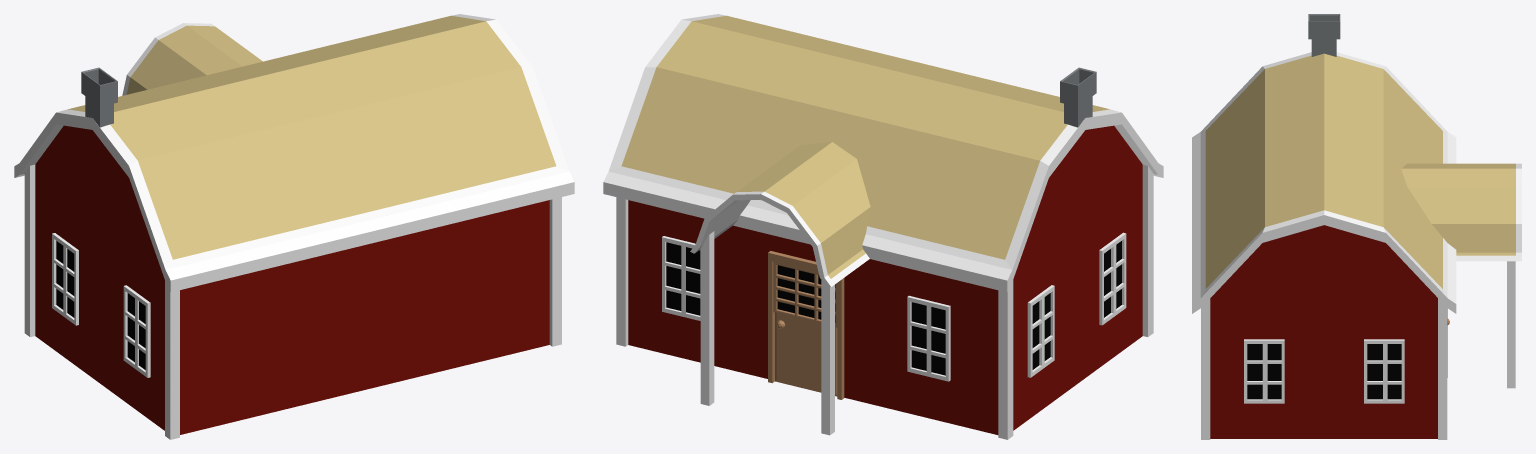
The model's file is House(2).fbx.
3 renders of one model, left to right at view 1: azimuth 30°, elevation 25°; view 2: azimuth 150°, elevation 25°; view 3: azimuth 270°, elevation 25°, orthographic. The views are drawn at different scales.
Visible parts, largest first — view 1: Cube; view 2: Cube; view 3: Cube.
Part boxes in pixels (box(x1,y1,x2,y2)): Cube: box(14, 14, 574, 439); Cube: box(603, 14, 1163, 439); Cube: box(1192, 14, 1521, 439).
Bounding box in the file's own units: 994 × 726 × 827.
